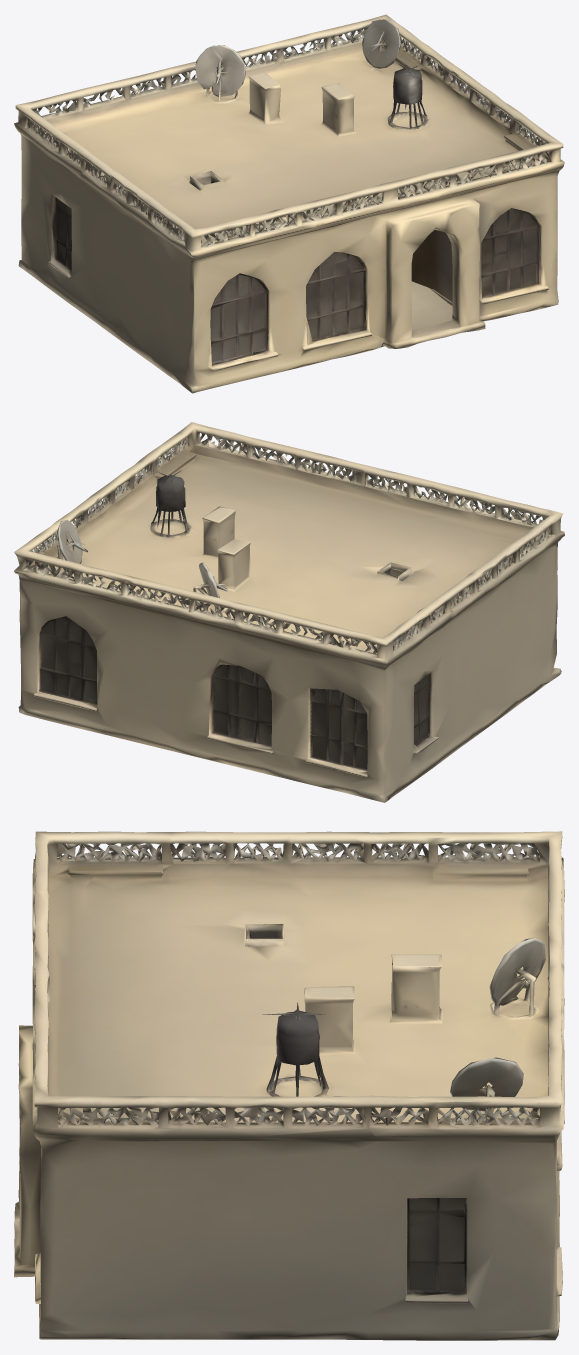
The model's file is villa27c.glb.
The picture shows the model from 3 angles, top to bottom: view 1: azimuth 30°, elevation 25°; view 2: azimuth 150°, elevation 25°; view 3: azimuth 270°, elevation 25°; orthographic projection. The views are drawn at different scales.
Parts seen in each view (by area): view 1: tripo_node_68f7831e-0d9c-4406-905c-731647eefbbd; view 2: tripo_node_68f7831e-0d9c-4406-905c-731647eefbbd; view 3: tripo_node_68f7831e-0d9c-4406-905c-731647eefbbd.
Boxes of the visible parts, x1=… form: tripo_node_68f7831e-0d9c-4406-905c-731647eefbbd: x1=14, y1=14, x2=564, y2=393; tripo_node_68f7831e-0d9c-4406-905c-731647eefbbd: x1=14, y1=422, x2=564, y2=802; tripo_node_68f7831e-0d9c-4406-905c-731647eefbbd: x1=14, y1=831, x2=564, y2=1340.
Bounding box in the file's own units: 1 × 0.4867 × 0.855.
Materials: 1 (1 with a texture image).
